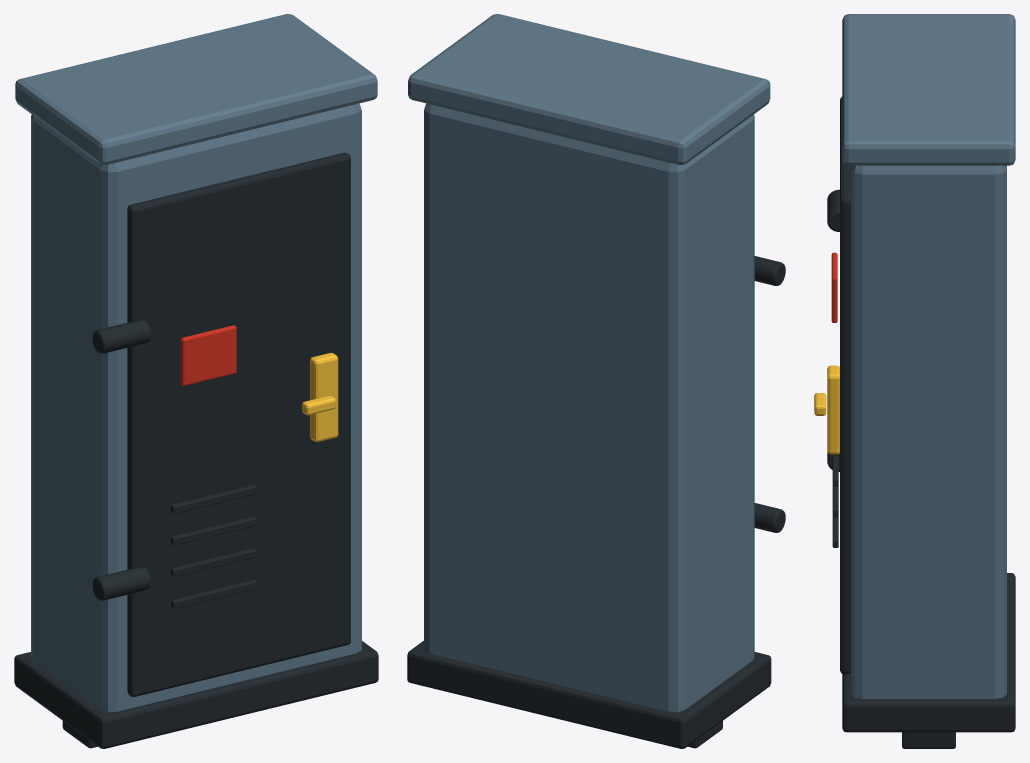
The model's file is utility-room-cabinet.glb.
3 renders of one model, left to right at view 1: azimuth 30°, elevation 25°; view 2: azimuth 150°, elevation 25°; view 3: azimuth 270°, elevation 25°, orthographic. The views are drawn at different scales.
Parts seen in each view (by area): view 1: EXPORT_layout_a_cabinet_door, EXPORT_layout_a_cabinet_body, EXPORT_layout_a_cabinet_top_cap, EXPORT_layout_a_cabinet_base_plinth, EXPORT_layout_a_cabinet_warning_plate, EXPORT_layout_a_cabinet_handle_mount, EXPORT_layout_a_cabinet_hinge_0.60, EXPORT_layout_a_cabinet_hinge_1.38, EXPORT_layout_a_cabinet_vent_2, EXPORT_layout_a_cabinet_vent_3, EXPORT_layout_a_cabinet_vent_0, EXPORT_layout_a_cabinet_vent_1; view 2: EXPORT_layout_a_cabinet_body, EXPORT_layout_a_cabinet_top_cap, EXPORT_layout_a_cabinet_base_plinth, EXPORT_layout_a_cabinet_hinge_1.38, EXPORT_layout_a_cabinet_hinge_0.60; view 3: EXPORT_layout_a_cabinet_body, EXPORT_layout_a_cabinet_top_cap, EXPORT_layout_a_cabinet_base_plinth, EXPORT_layout_a_cabinet_door, EXPORT_layout_a_cabinet_handle_mount, EXPORT_layout_a_cabinet_foot_+0.34, EXPORT_layout_a_cabinet_hinge_1.38, EXPORT_layout_a_cabinet_warning_plate.
Boxes of the visible parts, <box> form: EXPORT_layout_a_cabinet_door: <box>127,152,350,696</box>; EXPORT_layout_a_cabinet_body: <box>31,103,361,712</box>; EXPORT_layout_a_cabinet_top_cap: <box>15,14,377,165</box>; EXPORT_layout_a_cabinet_base_plinth: <box>14,641,378,748</box>; EXPORT_layout_a_cabinet_warning_plate: <box>180,325,236,385</box>; EXPORT_layout_a_cabinet_handle_mount: <box>310,353,338,441</box>; EXPORT_layout_a_cabinet_hinge_0.60: <box>92,567,150,600</box>; EXPORT_layout_a_cabinet_hinge_1.38: <box>92,320,150,353</box>; EXPORT_layout_a_cabinet_vent_2: <box>171,516,257,545</box>; EXPORT_layout_a_cabinet_vent_3: <box>171,484,257,513</box>; EXPORT_layout_a_cabinet_vent_0: <box>171,579,257,608</box>; EXPORT_layout_a_cabinet_vent_1: <box>171,548,257,577</box>; EXPORT_layout_a_cabinet_body: <box>424,103,754,712</box>; EXPORT_layout_a_cabinet_top_cap: <box>408,14,770,165</box>; EXPORT_layout_a_cabinet_base_plinth: <box>407,641,771,748</box>; EXPORT_layout_a_cabinet_hinge_1.38: <box>754,256,785,285</box>; EXPORT_layout_a_cabinet_hinge_0.60: <box>754,503,785,532</box>; EXPORT_layout_a_cabinet_body: <box>851,165,1006,698</box>; EXPORT_layout_a_cabinet_top_cap: <box>842,14,1015,165</box>; EXPORT_layout_a_cabinet_base_plinth: <box>842,573,1015,732</box>; EXPORT_layout_a_cabinet_door: <box>840,97,850,674</box>; EXPORT_layout_a_cabinet_handle_mount: <box>827,365,839,454</box>; EXPORT_layout_a_cabinet_foot_+0.34: <box>902,732,955,748</box>; EXPORT_layout_a_cabinet_hinge_1.38: <box>827,189,839,231</box>; EXPORT_layout_a_cabinet_warning_plate: <box>831,252,837,322</box>.
Size of the model in its own units: 0.94 by 2 by 0.5925.
